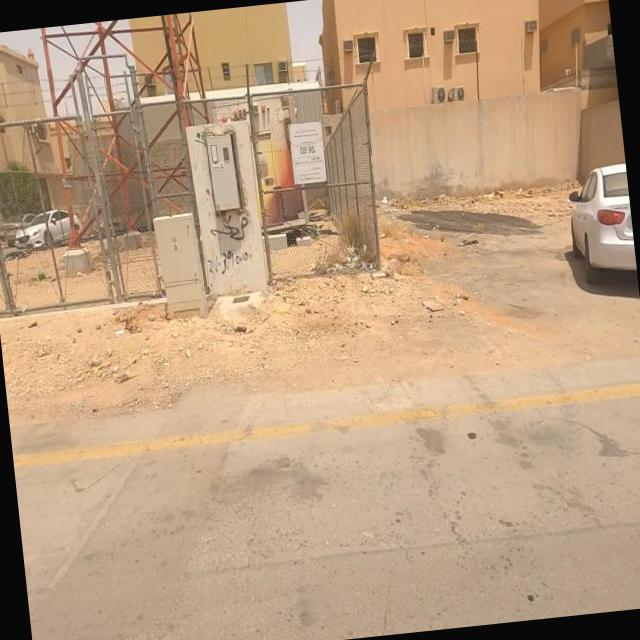debris: (292, 194, 421, 315), (354, 160, 420, 237)
